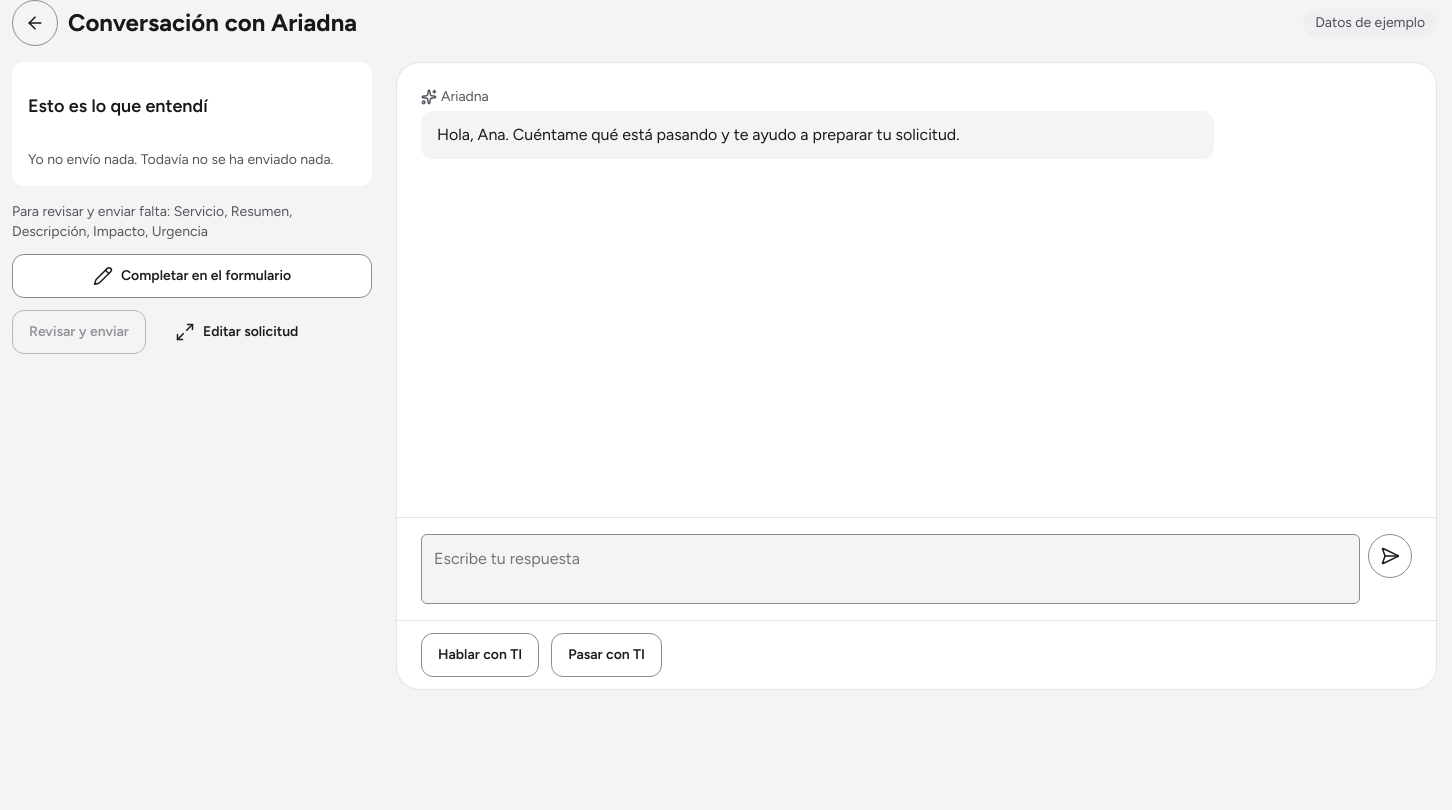
Test: ConversationContainer agent v2 › one sentence fills 'Tu solicitud' and shows red and amber flags for what is left
Type "Tengo un problema técnico con mi PC, los cables están pelados." into the text box named "Tu respuesta para Ariadna". click: (890, 569)
box: [421,534,1360,604]
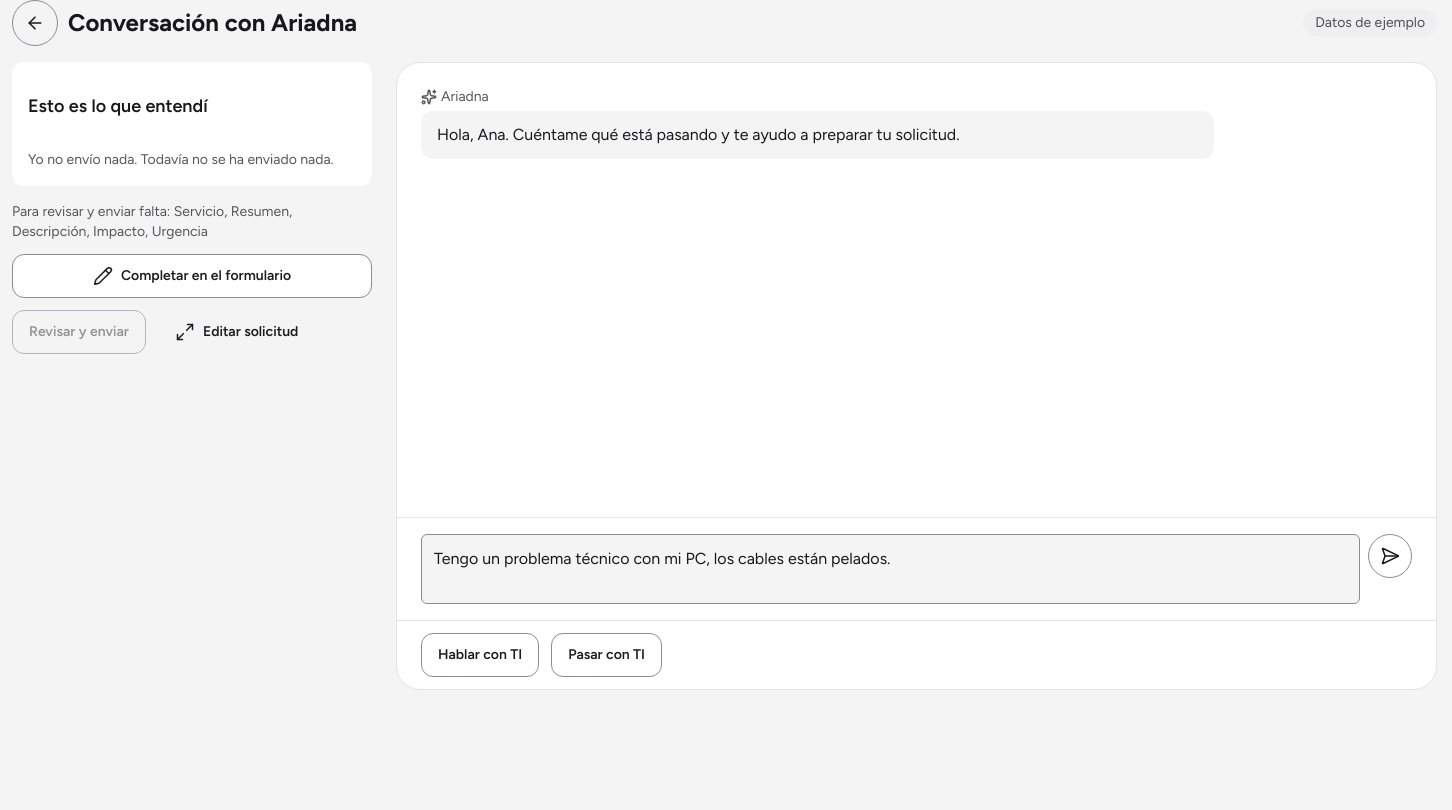
Click the button named "Enviar respuesta a Ariadna". click: (1390, 556)
box: [1368,534,1412,578]
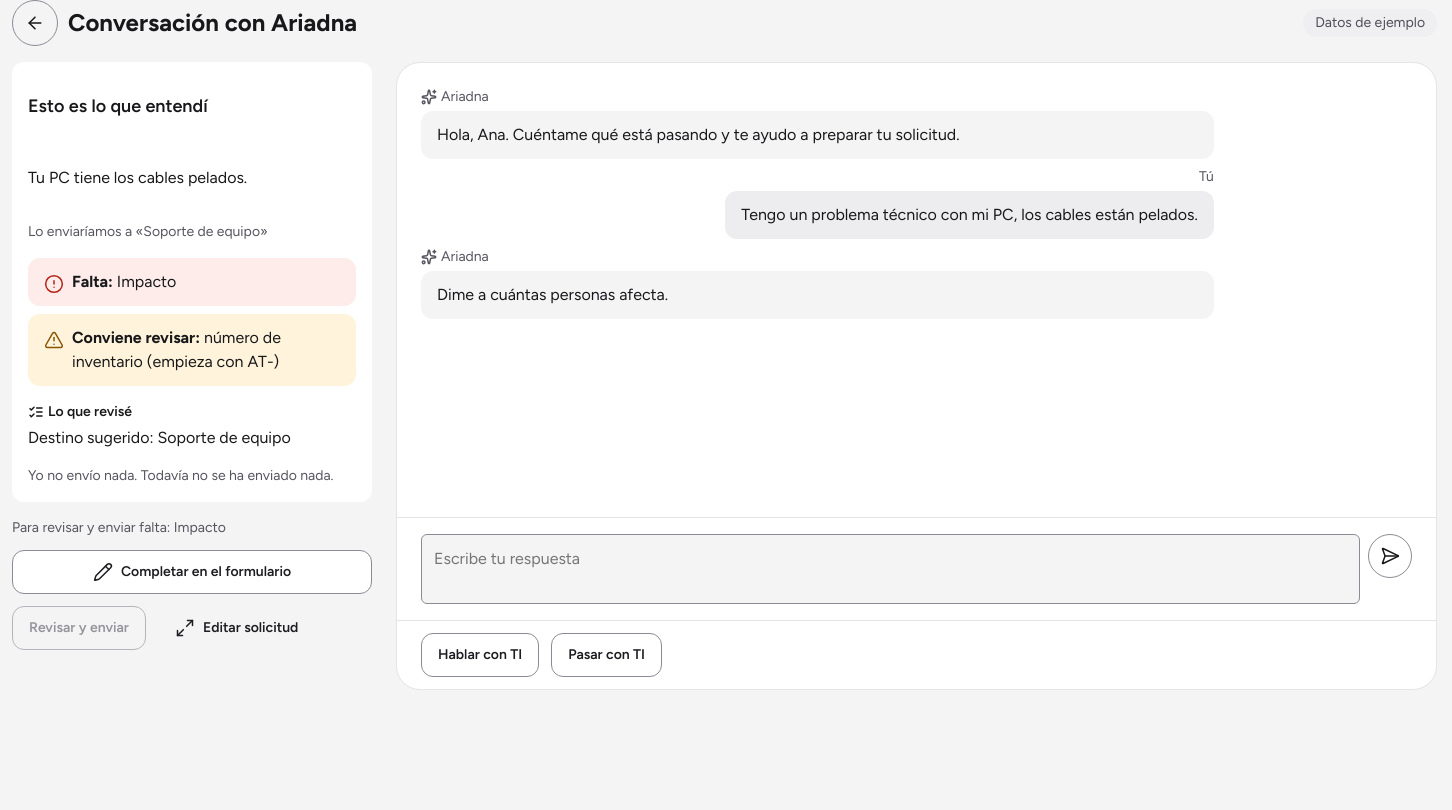
Expected: the text "Tu PC tiene los cables pelados." is shown, [28,168,247,187]
Expected: the list item "Falta: Impacto" is shown, [28,258,356,306]
Expected: the list item "Conviene revisar: número de inventario (empieza con AT-)" is shown, [28,314,356,386]
